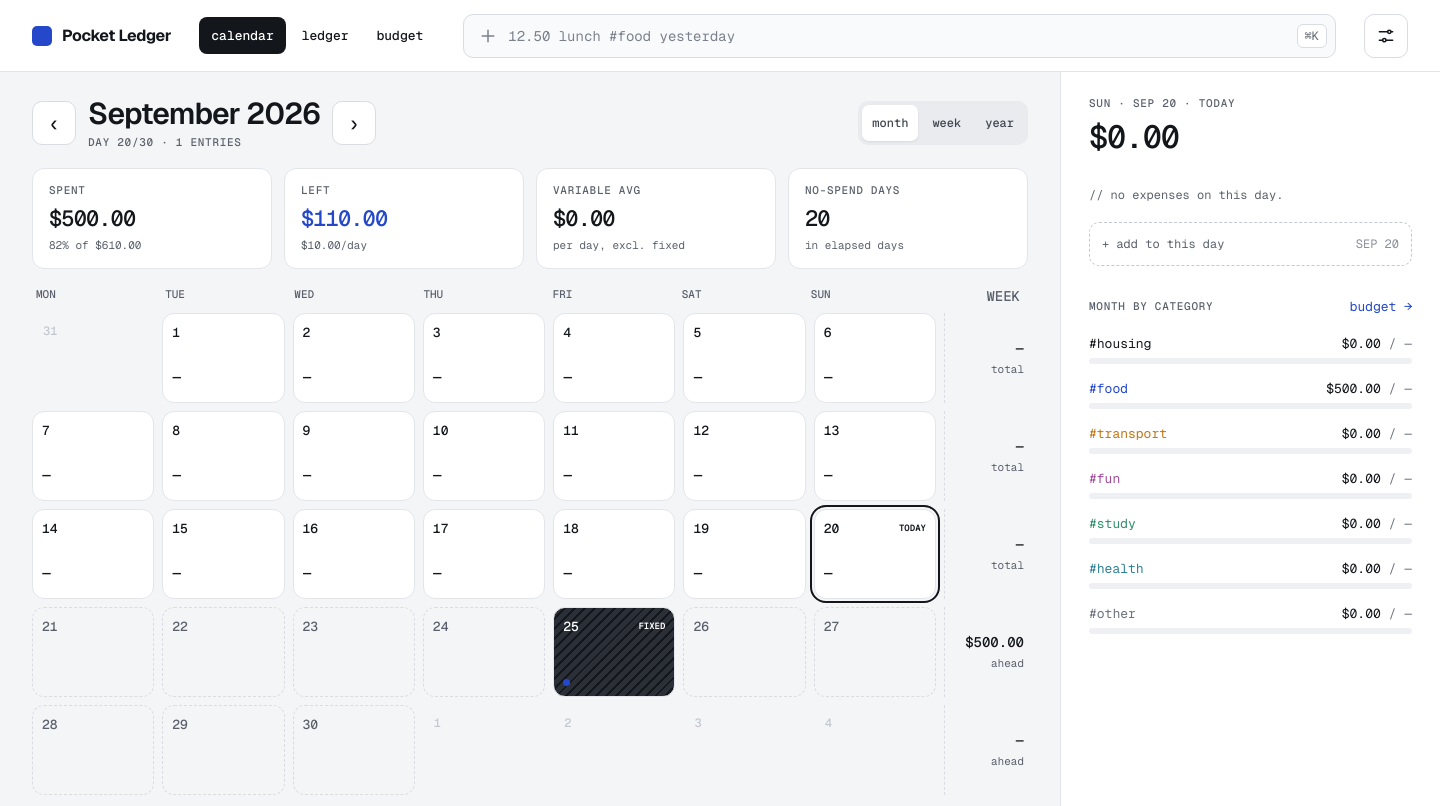
Test: does not reserve an upcoming recurring charge twice when it is already recorded
Check: the text "$10.00/day" is shown, box x1=301 y1=238 x2=367 y2=252
Click the button named "Settings".
click(1386, 36)  # box x1=1364 y1=14 x2=1408 y2=58
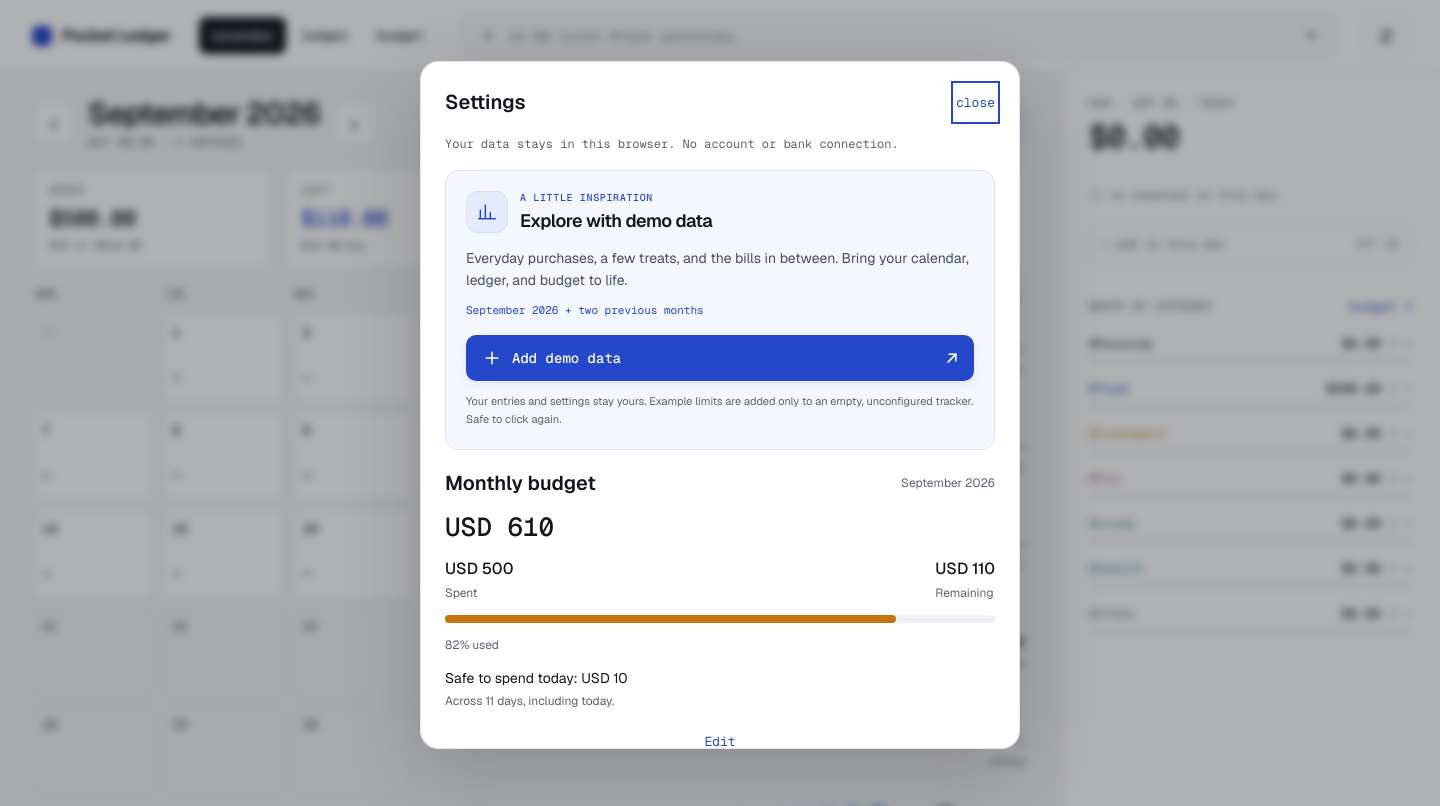
Check: the text "Safe to spend today: USD 10" is shown, box x1=445 y1=668 x2=628 y2=686
Check: the text named "Budget remaining" reads "USD 110", box x1=935 y1=558 x2=995 y2=578
